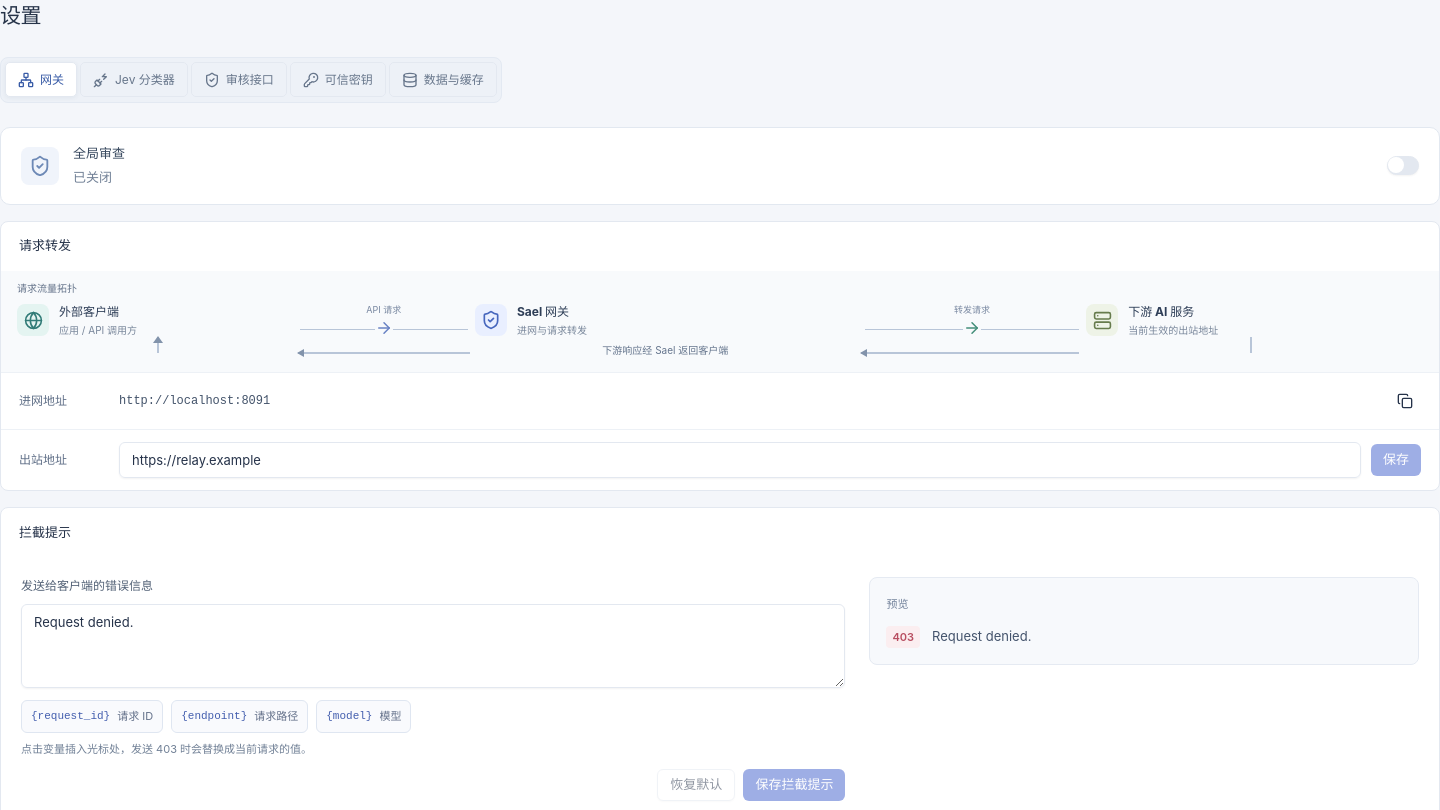
Test case: groups gateway controls and relay addresses in one tab and keeps retention with cache
Expected: the switch named "全局审查" is shown, [1387, 156, 1419, 175]
Expected: the element with class "gateway-ingress-address" reads "http://localhost:8091", [119, 394, 270, 408]
Press the mouse on the tab "数据与缓存" at (443, 80), box [389, 62, 497, 97]
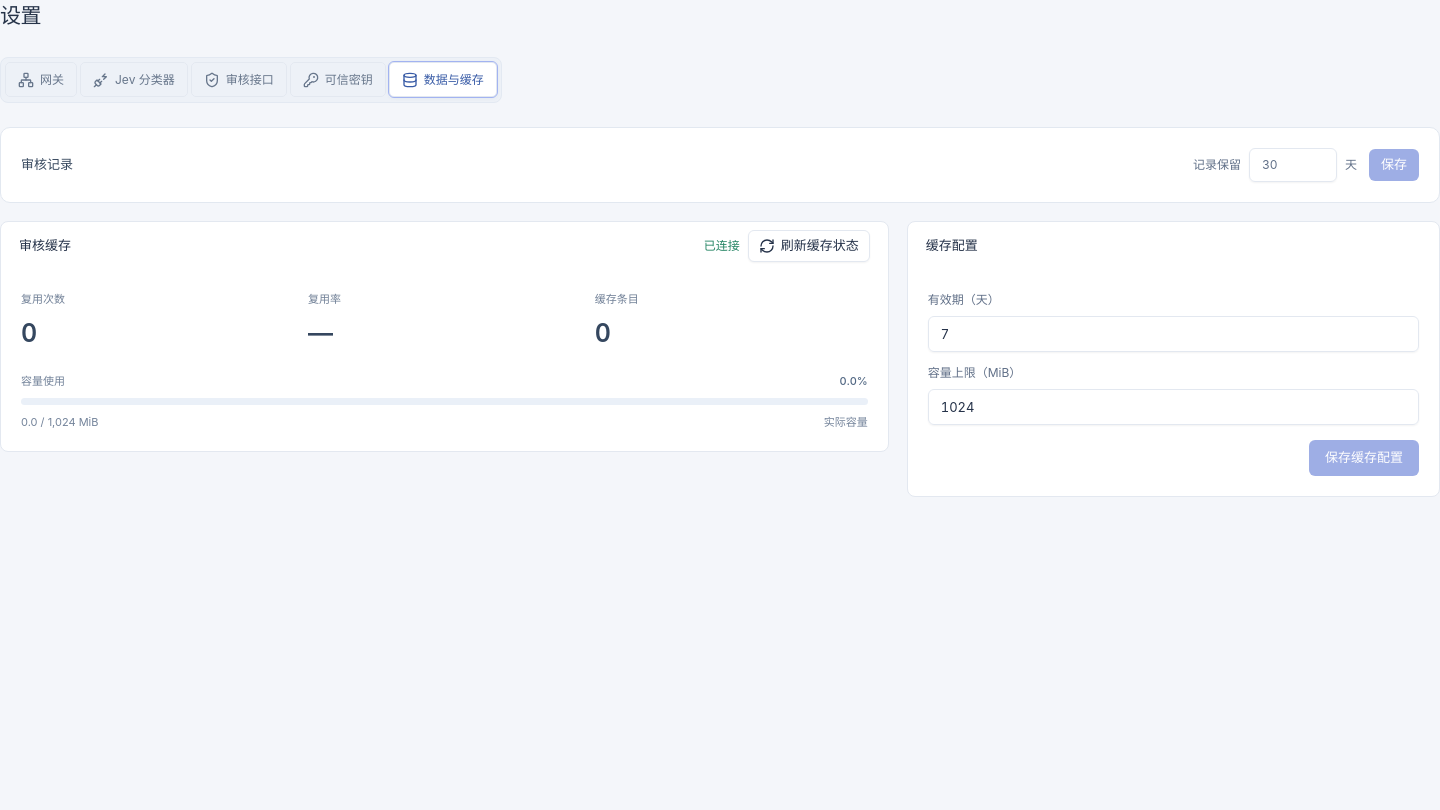
Now the number field named "记录保留天数" is shown, box [1249, 148, 1337, 182]
